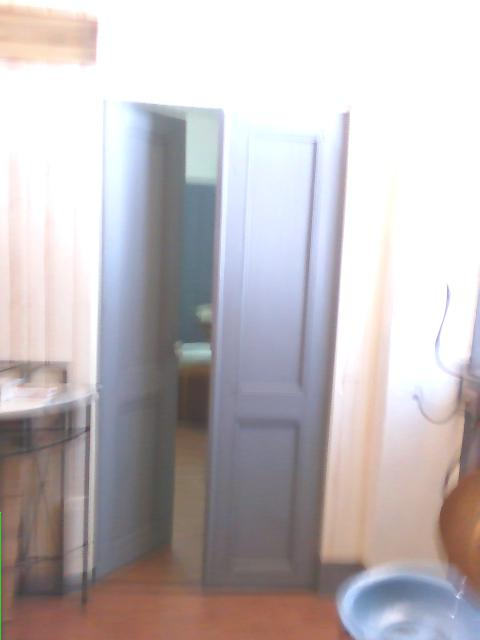semi_door: (91, 95, 352, 594)
